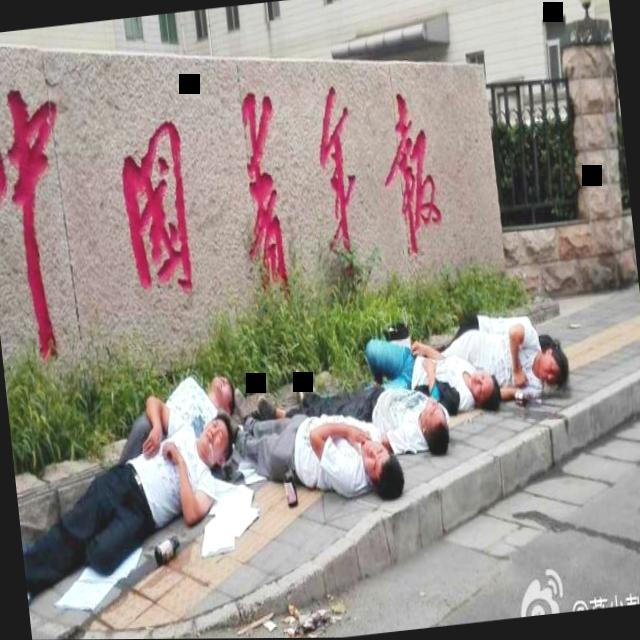Fall-Detected: (354, 310, 506, 448)
